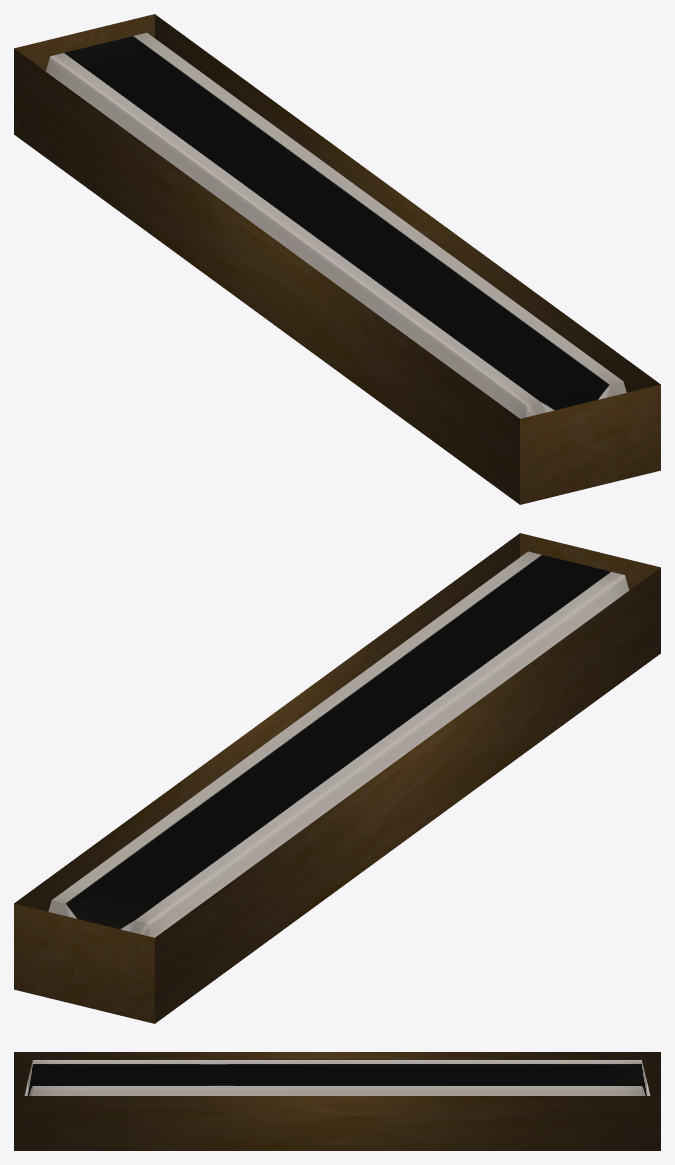
The model's file is fluorescent-ceiling.glb.
3 renders of one model, top to bottom at view 1: azimuth 30°, elevation 25°; view 2: azimuth 150°, elevation 25°; view 3: azimuth 270°, elevation 25°, orthographic. The views are drawn at different scales.
Visible parts, largest first — view 1: CeilingLamp_0; view 2: CeilingLamp_0; view 3: CeilingLamp_0.
Part boxes in pixels (x1=…): CeilingLamp_0: x1=14, y1=14, x2=660, y2=504; CeilingLamp_0: x1=14, y1=533, x2=660, y2=1023; CeilingLamp_0: x1=14, y1=1052, x2=660, y2=1150.
Bounding box in the file's own units: 0.1928 × 0.1126 × 1.2.
Materials: 1 (1 with a texture image).
